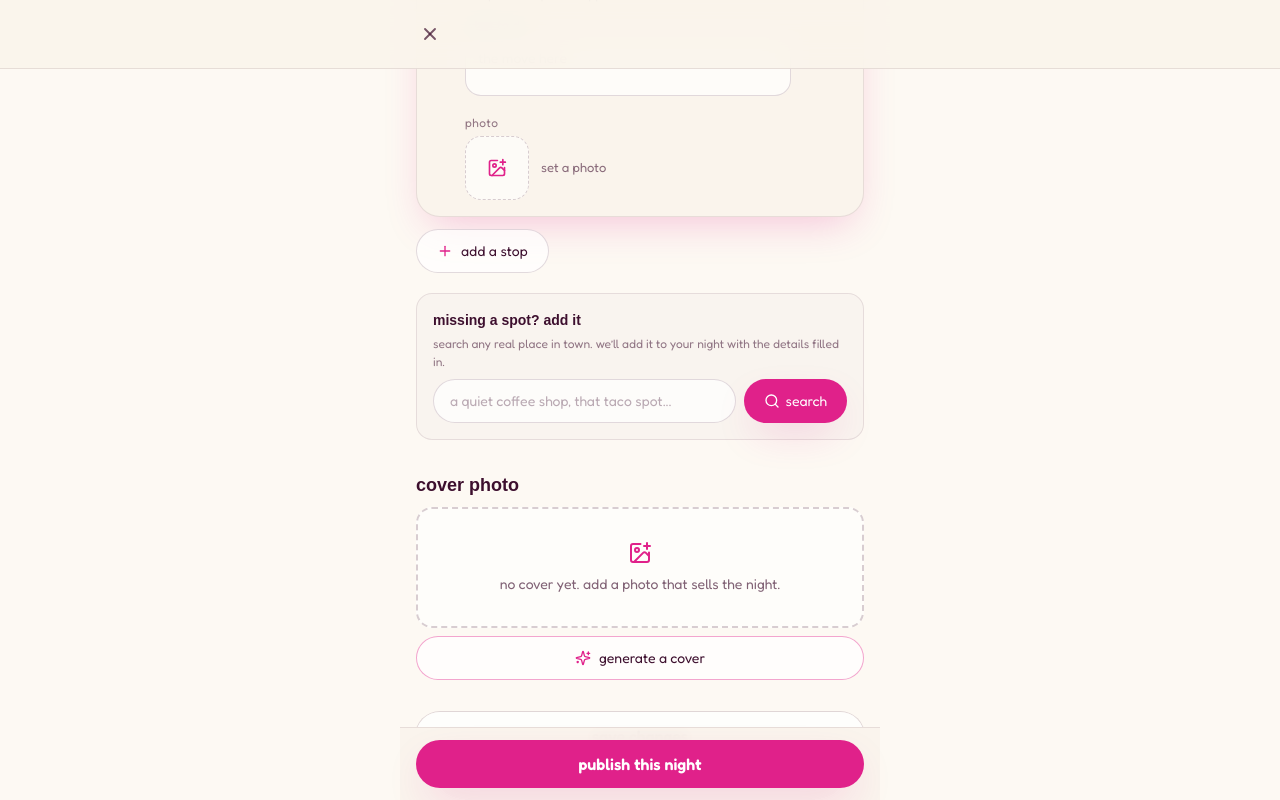
Scenario: ItineraryEditor › adds a custom venue stop and records it to the queue
The image size is (1280, 800).
(page scrolled)
Type "coffee" into the field named "search for a place".
click(584, 401); type("coffee")  # box [433,379,736,423]
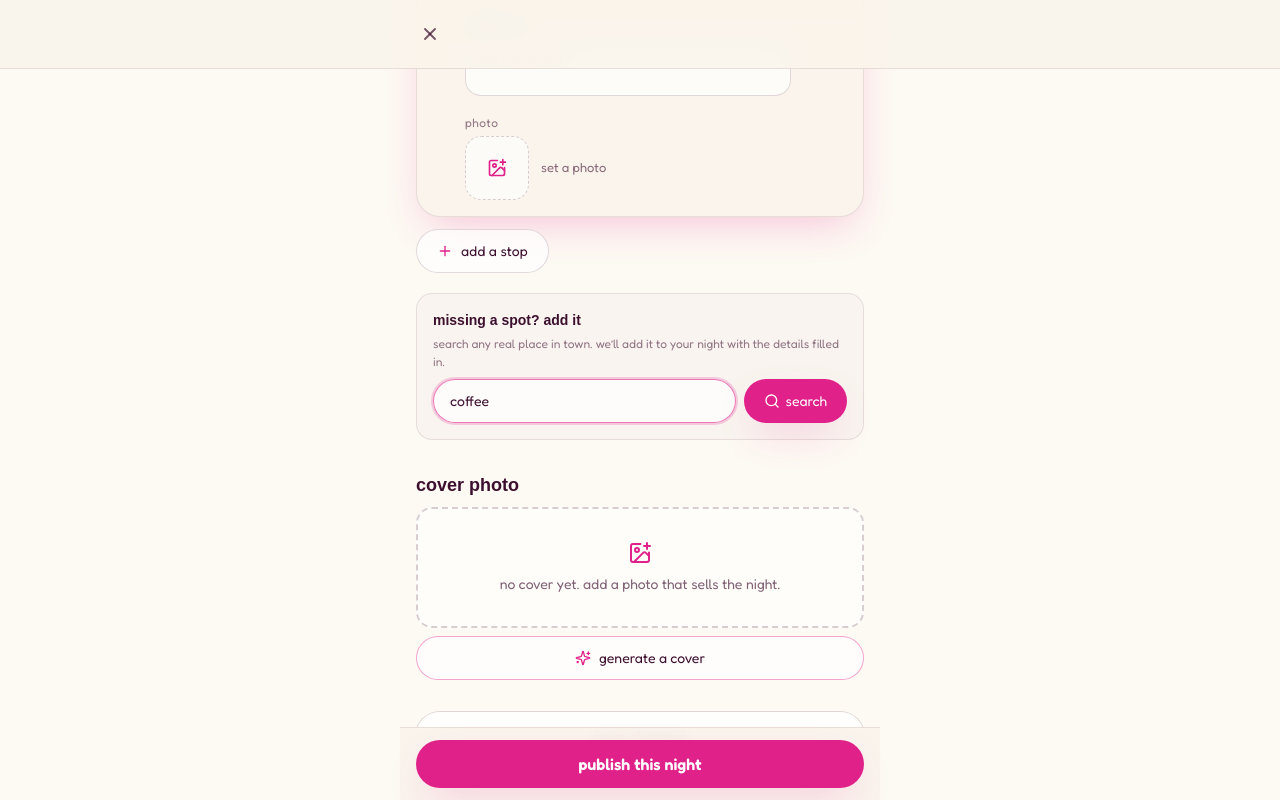
Click the button "search".
click(795, 401)  # box [744,379,847,423]
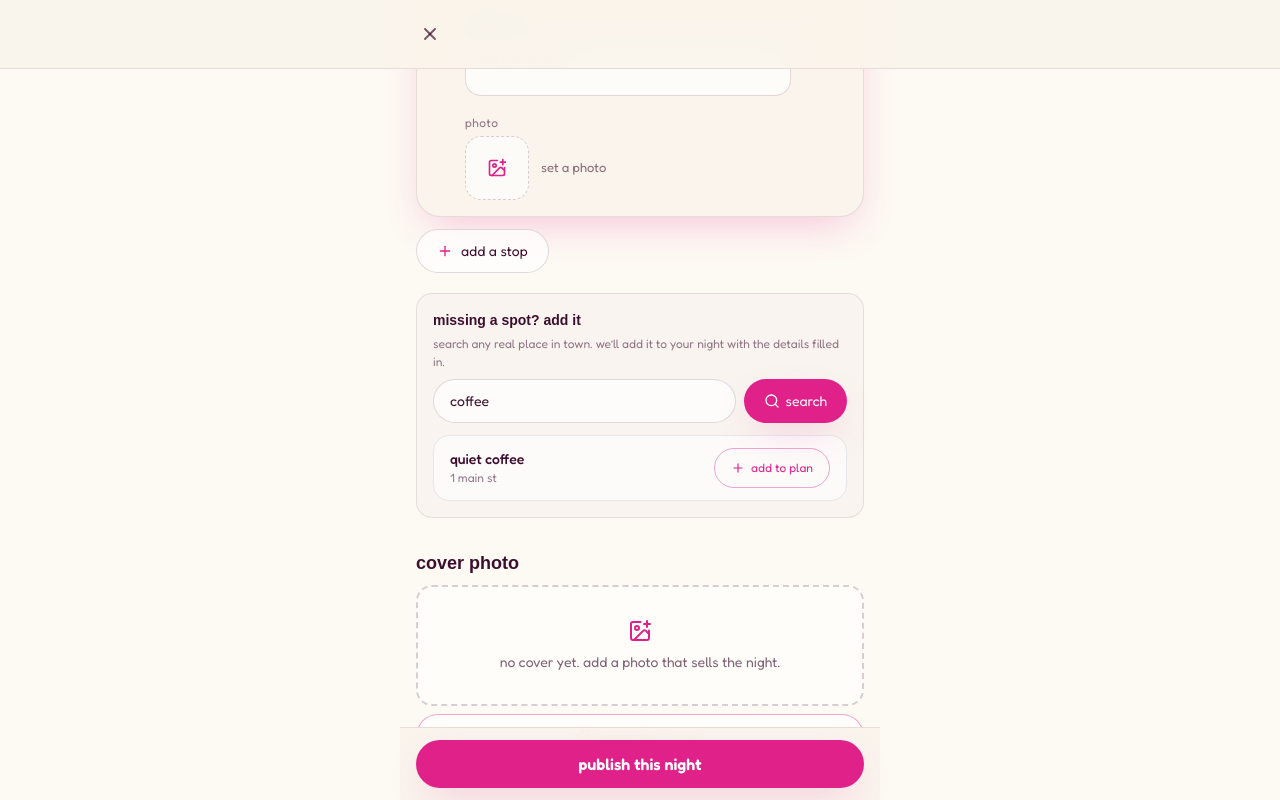
Expected: the text "quiet coffee" is shown, [450,448,524,469]
Click the button "add to plan".
click(772, 468)  # box [714,448,830,488]
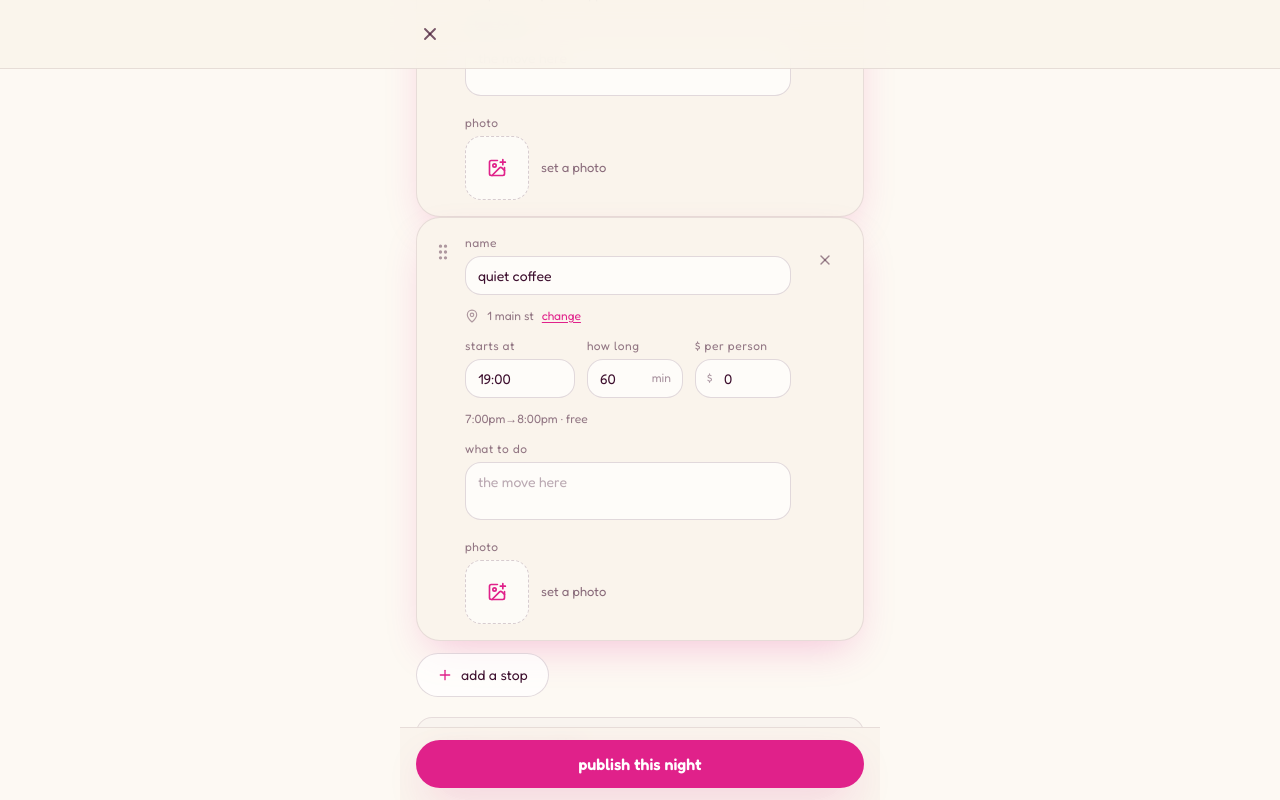
Expected: the number of fields labelled "name" is 2
